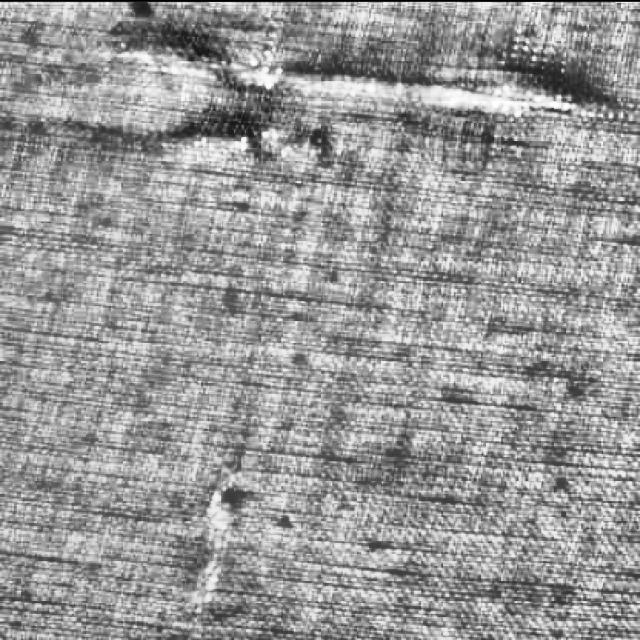thread_error: (90, 5, 639, 124), (169, 465, 251, 640), (188, 108, 373, 176)
